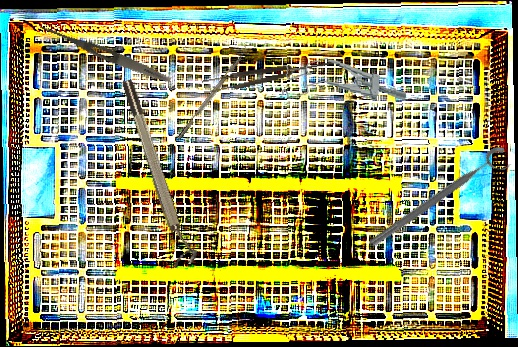Chopper: (172, 42, 252, 140)
Dressing Forceps: (37, 22, 173, 86)
Fixation Ring: (365, 143, 516, 259), (118, 75, 200, 269)
Speculum: (280, 54, 409, 110)
Tissue Forceps: (201, 55, 337, 95)
